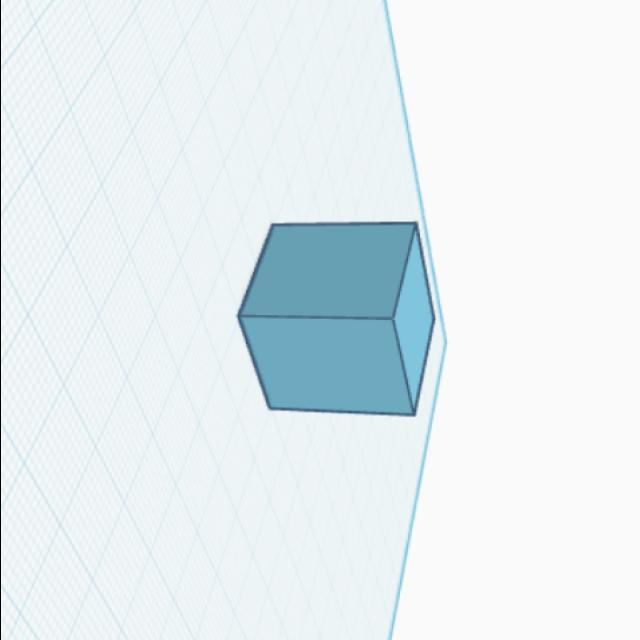cube: (232, 216, 438, 418)
